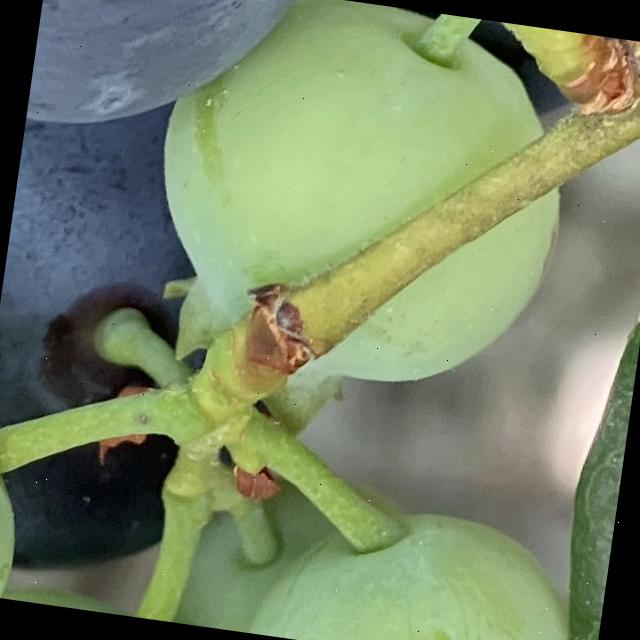Blueberries: (229, 453, 610, 640)
